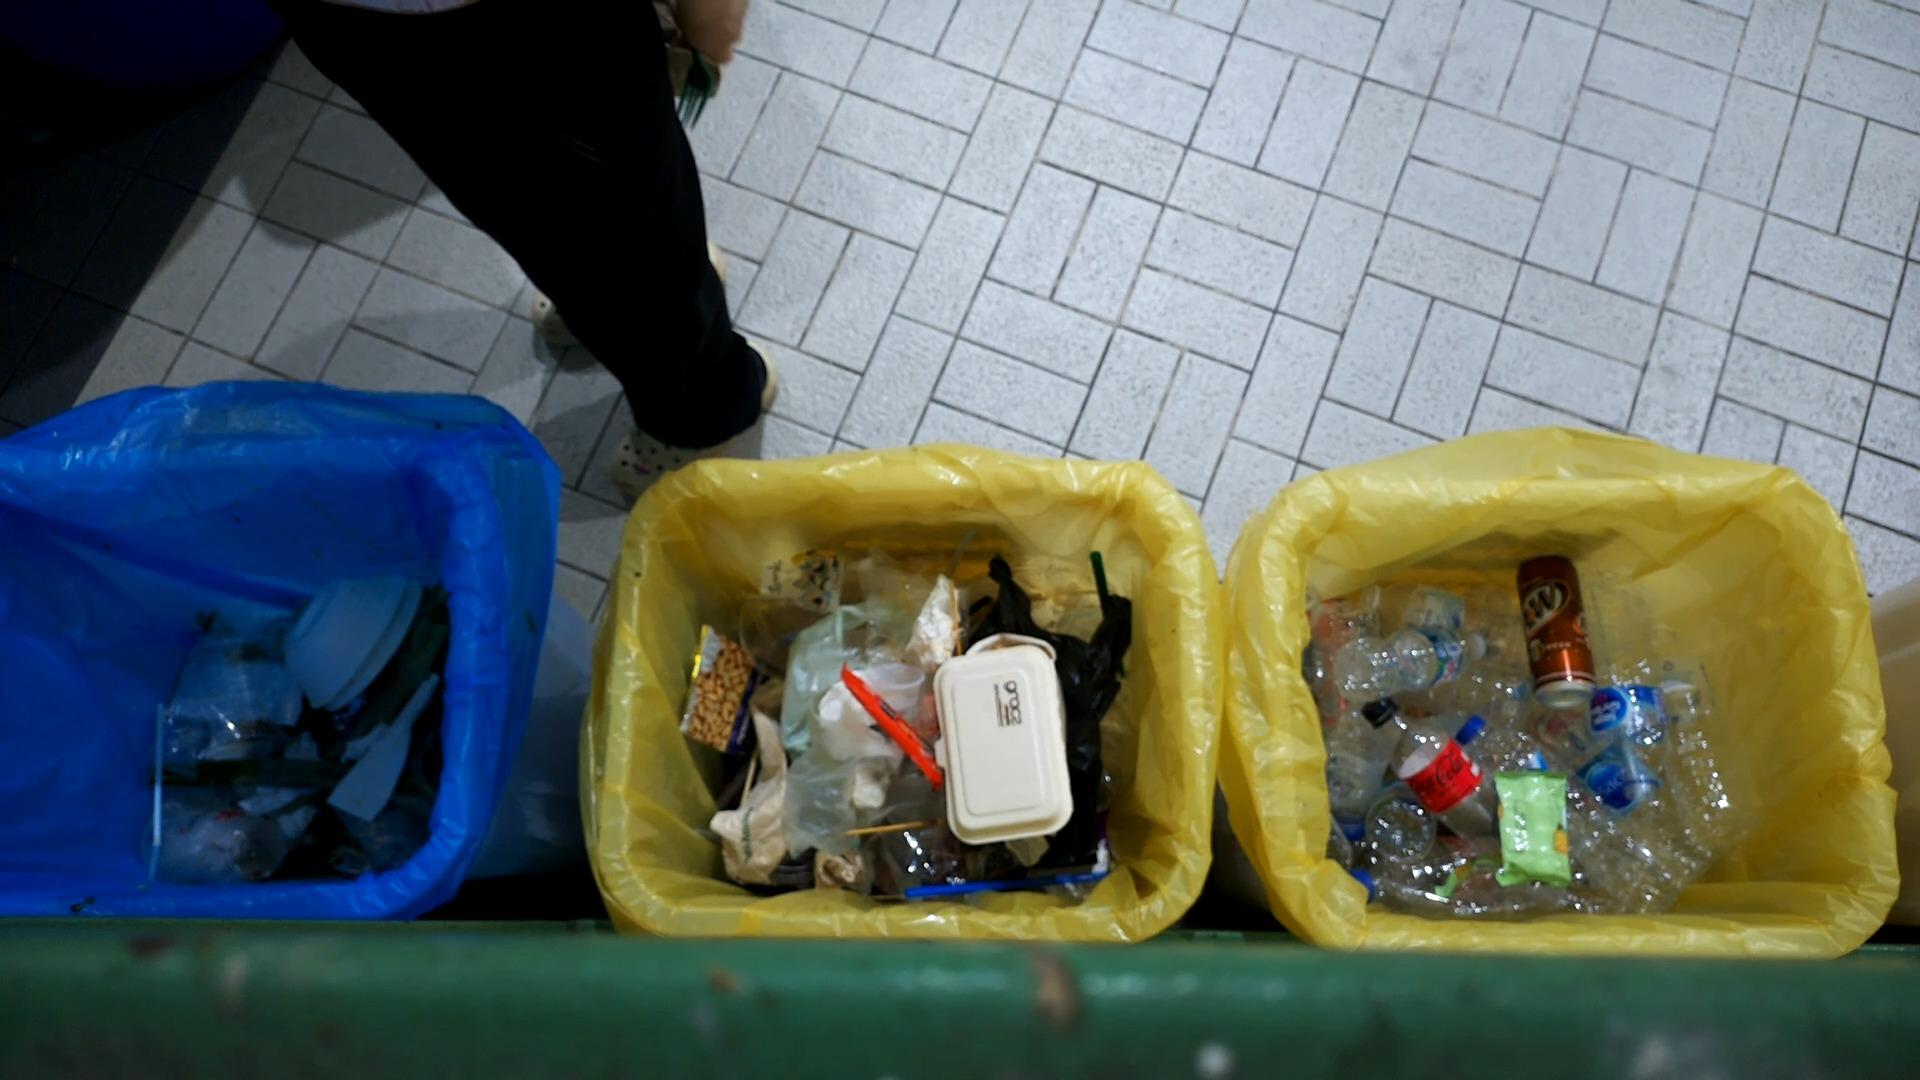can: (1507, 550, 1602, 715)
food container: (924, 641, 1079, 848), (270, 559, 409, 712), (864, 661, 927, 713)
plastic bottle: (1452, 709, 1702, 915), (1642, 615, 1767, 857), (1353, 692, 1523, 847), (1580, 566, 1673, 814), (1327, 622, 1493, 707)
plastic cup: (136, 786, 293, 886), (190, 629, 280, 753)
plastic cutlery: (662, 0, 727, 133)
snack packaging: (832, 669, 947, 794), (682, 622, 781, 765), (1486, 766, 1575, 893)
sticks: (843, 816, 945, 839)
straw: (899, 869, 1110, 901), (149, 699, 167, 856)
tissue paper: (319, 669, 442, 829), (909, 570, 964, 666), (814, 666, 882, 741), (269, 798, 323, 844)
